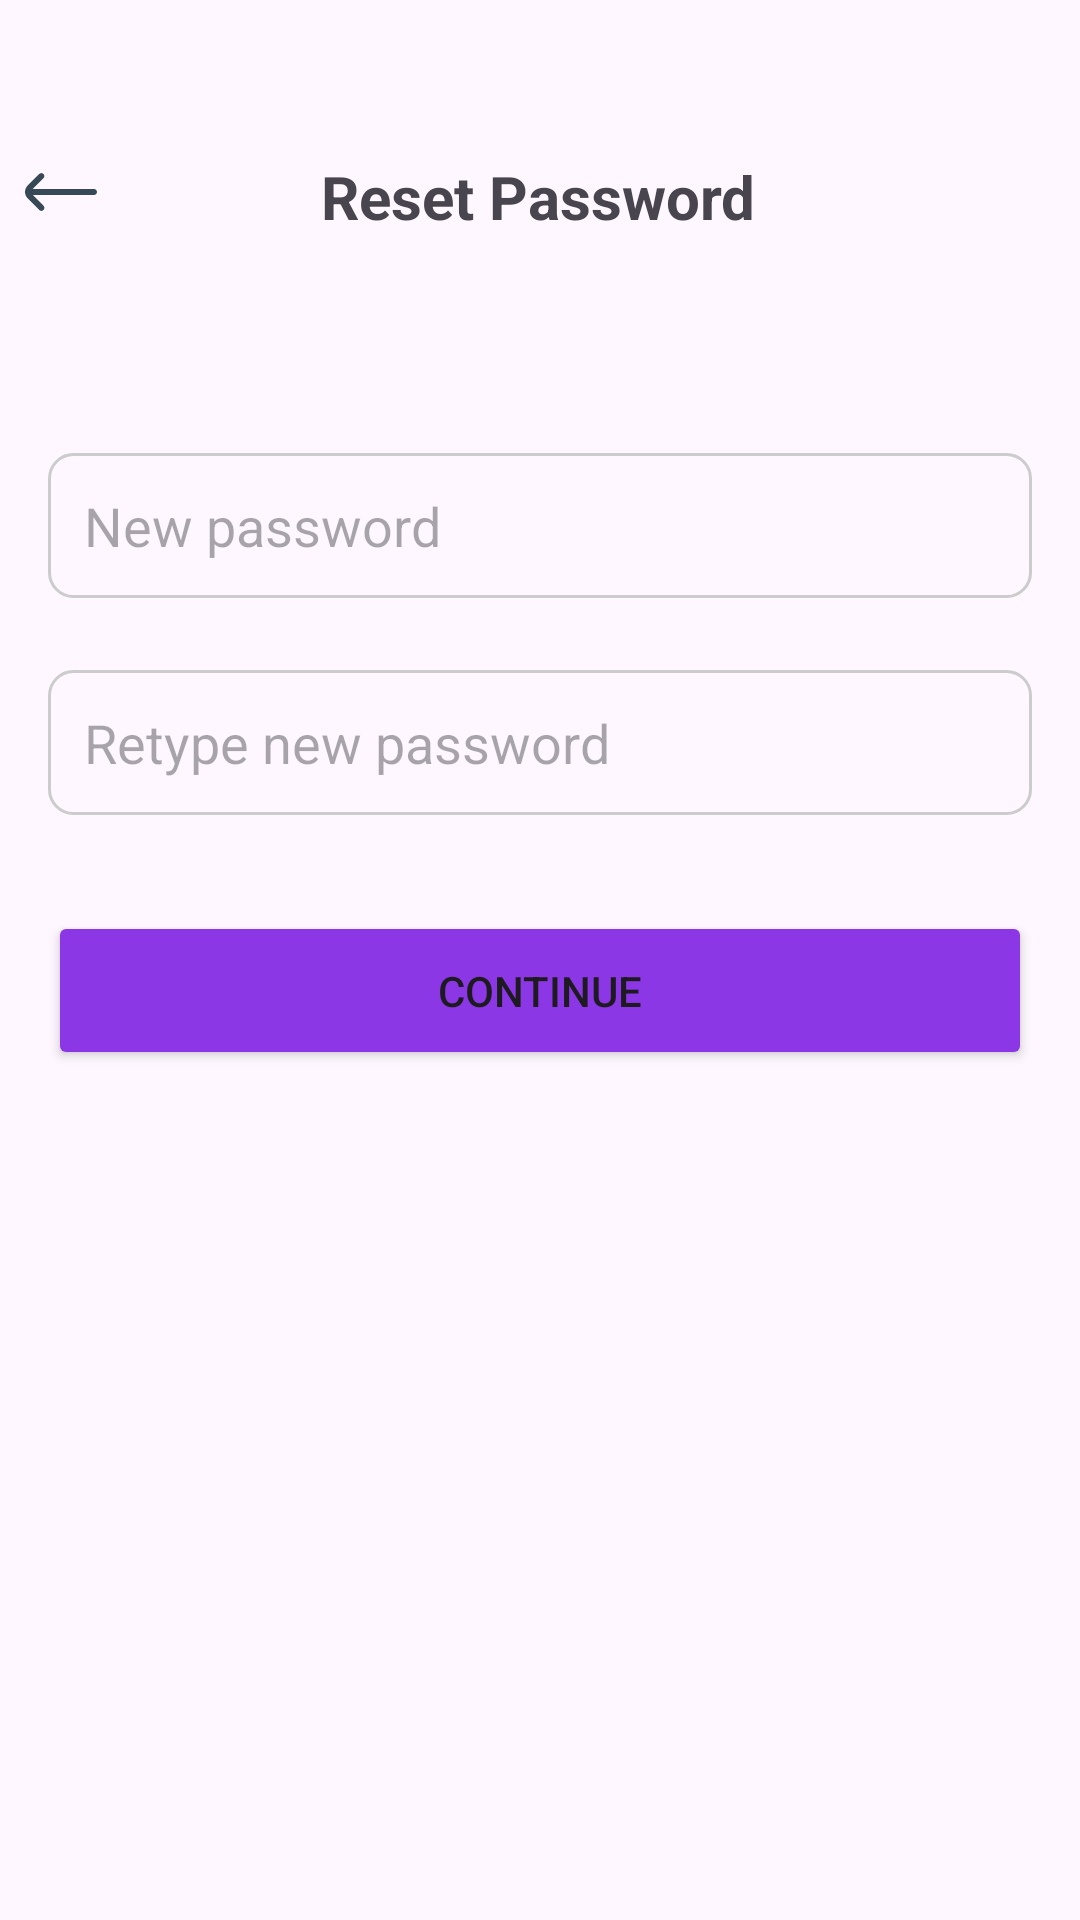

Where icons sit on this 1080px×1920px app screen, as {"x1": x1, "y1": y1, "x2": x2, "y2": y2}:
arrow left: {"x1": 25, "y1": 173, "x2": 97, "y2": 211}
